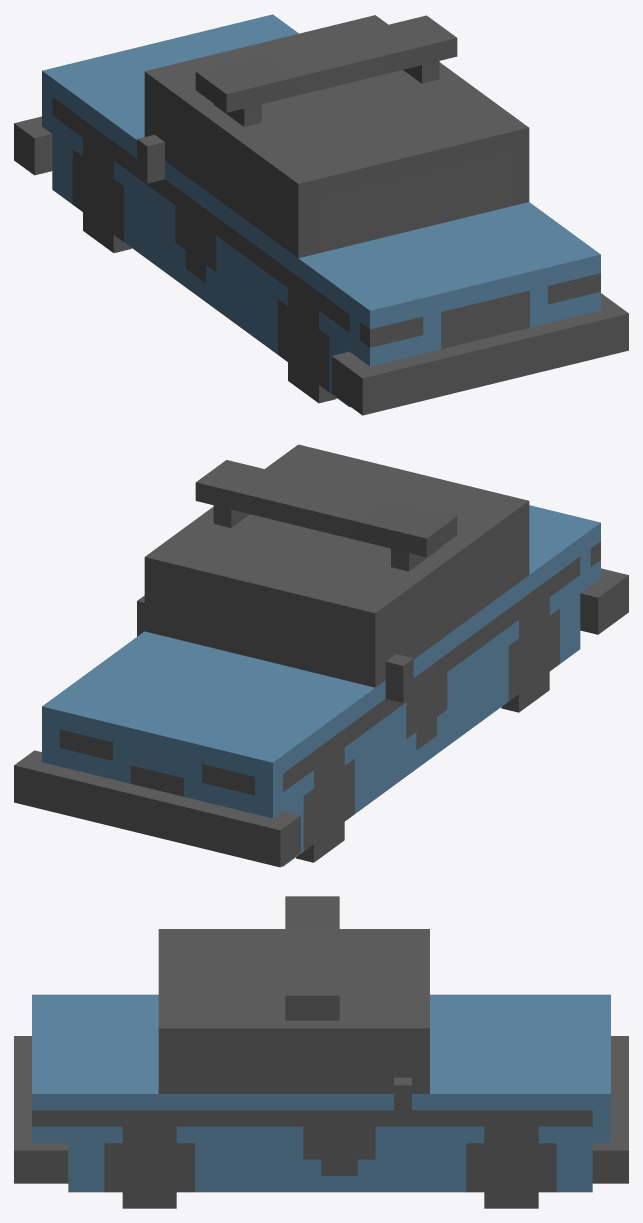
Rendered from veh_police1.obj.
The picture shows the model from 3 angles, top to bottom: view 1: azimuth 30°, elevation 25°; view 2: azimuth 150°, elevation 25°; view 3: azimuth 270°, elevation 25°; orthographic projection. The views are drawn at different scales.
Size of the model in its own units: 15 by 13 by 34.
